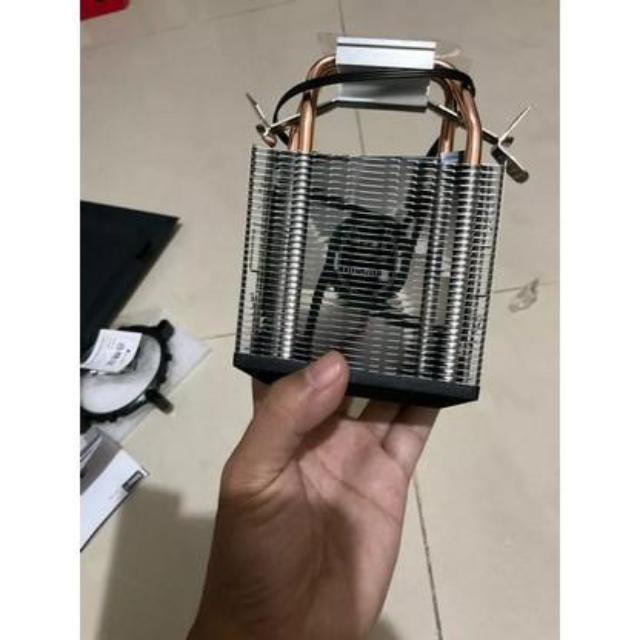CPU_Fan: (238, 34, 510, 403)
